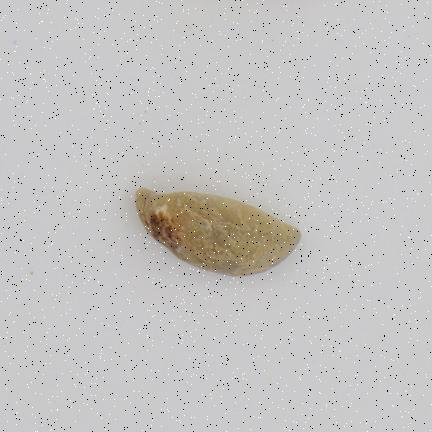shell: (137, 188, 301, 276)
